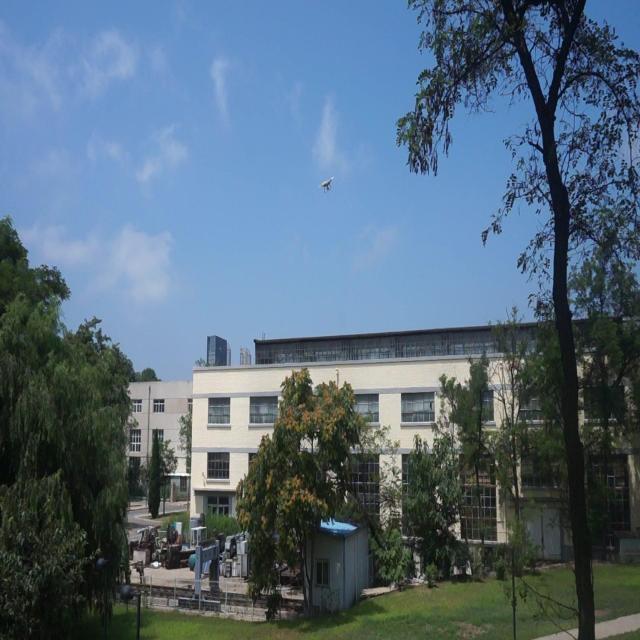drone: (318, 173, 334, 194)
